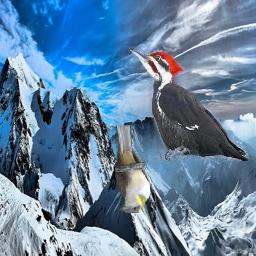Cuckoo: (114, 125, 151, 213)
Woodpecker: (129, 47, 250, 162), (13, 109, 26, 125)
